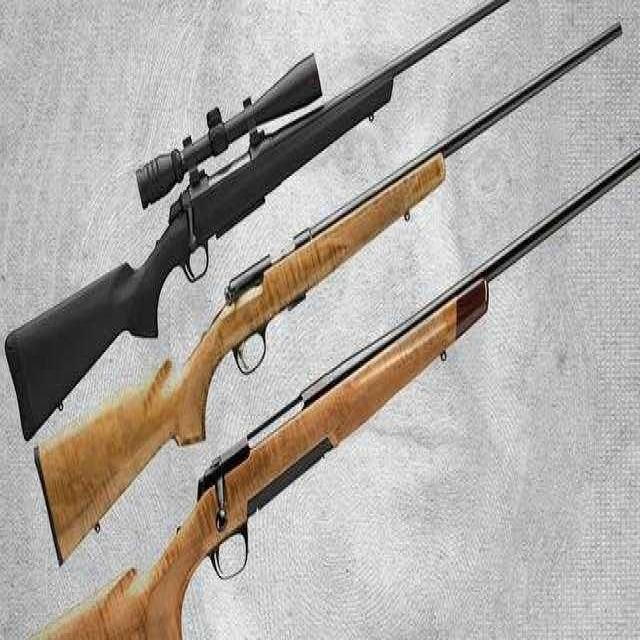heavyweapon: (31, 20, 628, 554), (129, 140, 628, 597), (5, 1, 516, 429)
